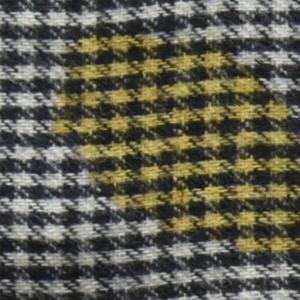Stain: (52, 22, 300, 266)
